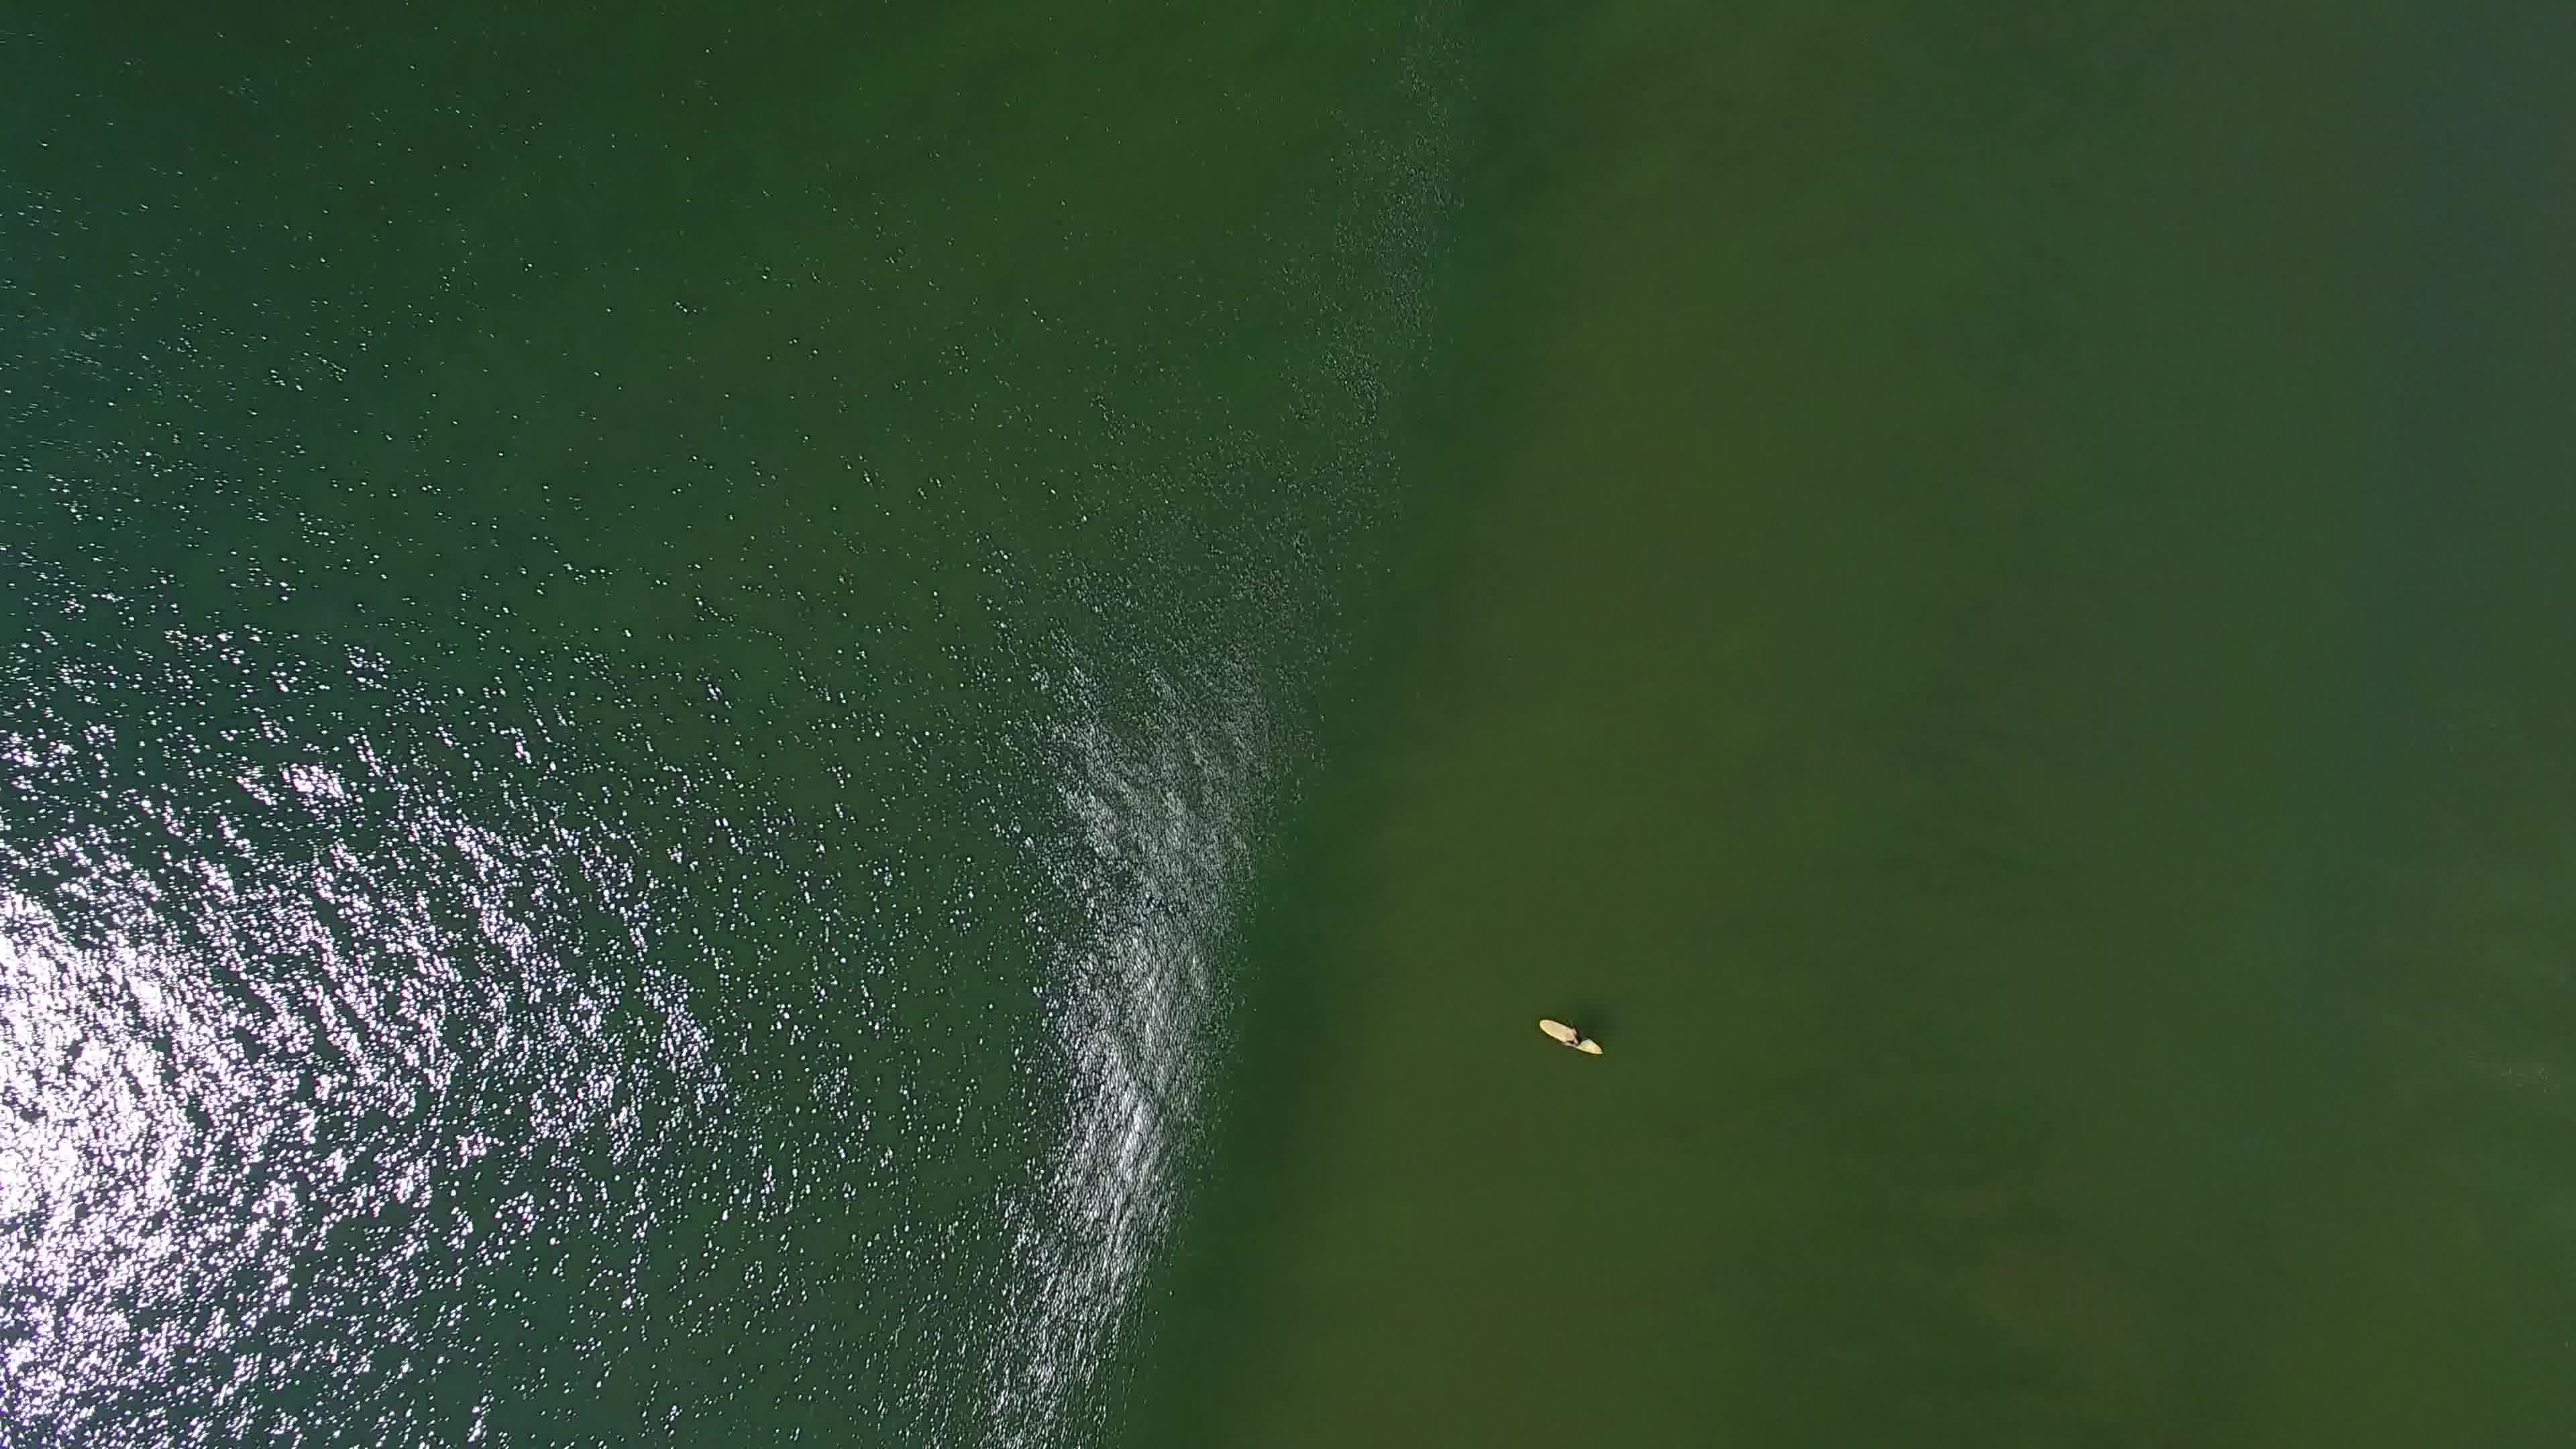surfer: (1527, 1003, 1614, 1069)
